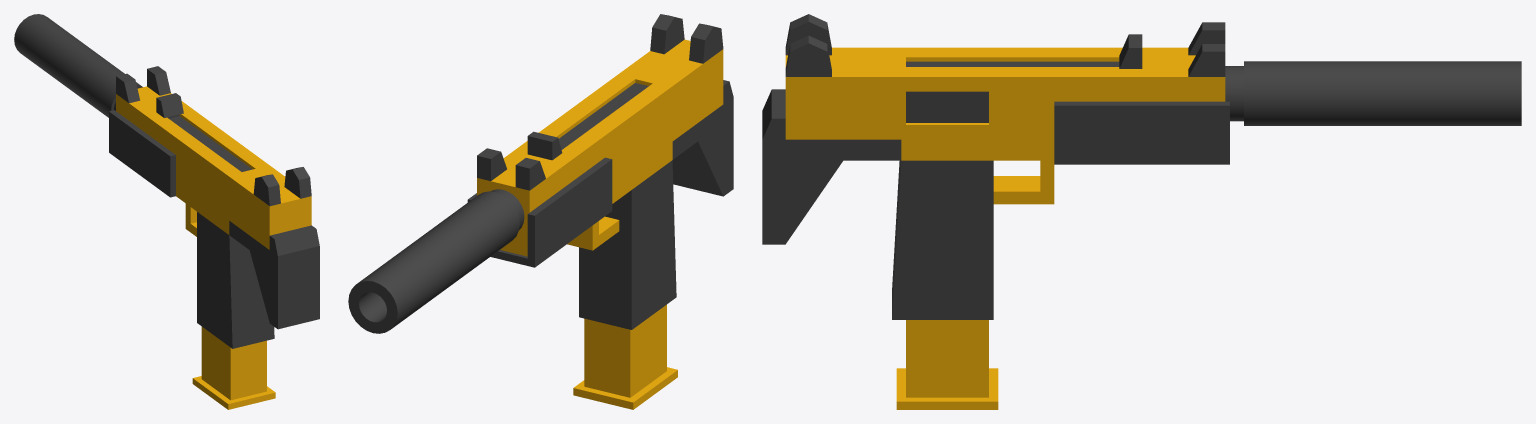
The model's file is uziLongSilencerGold.obj.
The picture shows the model from 3 angles, left to right: view 1: azimuth 30°, elevation 25°; view 2: azimuth 150°, elevation 25°; view 3: azimuth 270°, elevation 25°; orthographic projection. The views are drawn at different scales.
Visible parts, largest first — view 1: Group; view 2: Group; view 3: Group.
Boxes of the visible parts, <box> form: Group: <box>14,14,319,409</box>; Group: <box>348,14,733,409</box>; Group: <box>762,14,1521,409</box>.
Size of the model in its own units: 0.0727 by 0.333 by 0.6282.
